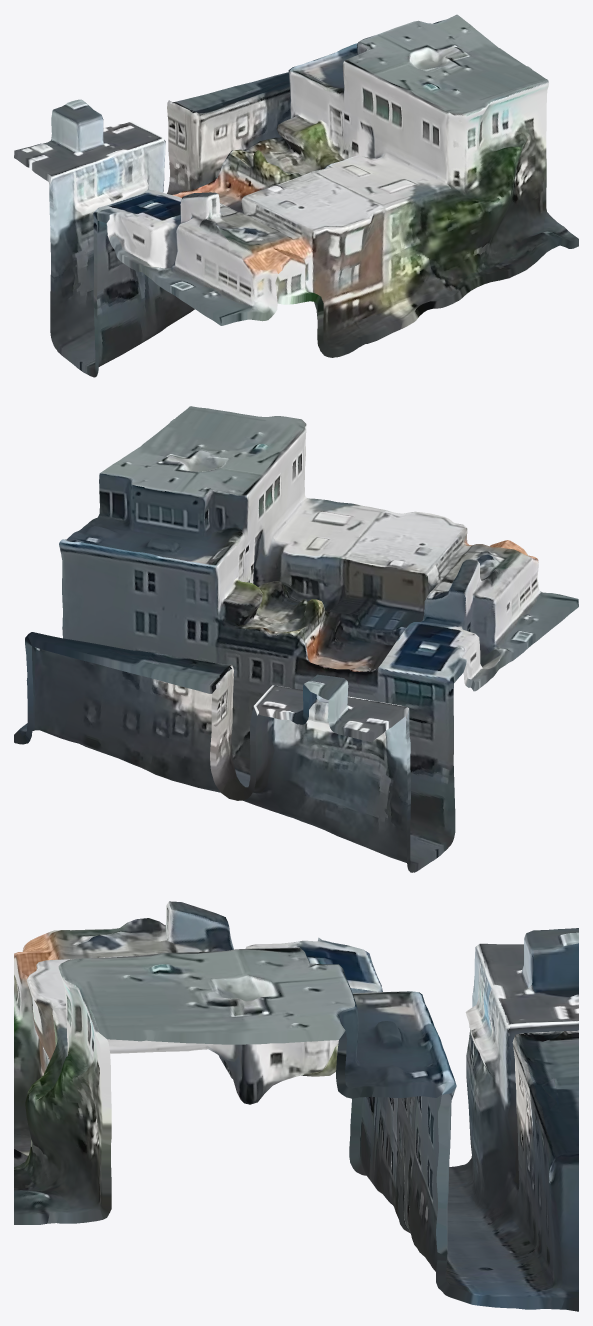
The model's file is z20-167753-405198-h0-yup-uvflip-v3-world.glb.
3 renders of one model, top to bottom at view 1: azimuth 30°, elevation 25°; view 2: azimuth 150°, elevation 25°; view 3: azimuth 270°, elevation 25°, orthographic. The views are drawn at different scales.
Size of the model in its own units: 30.2 by 23 by 30.32.
1 material, 1 textured.
